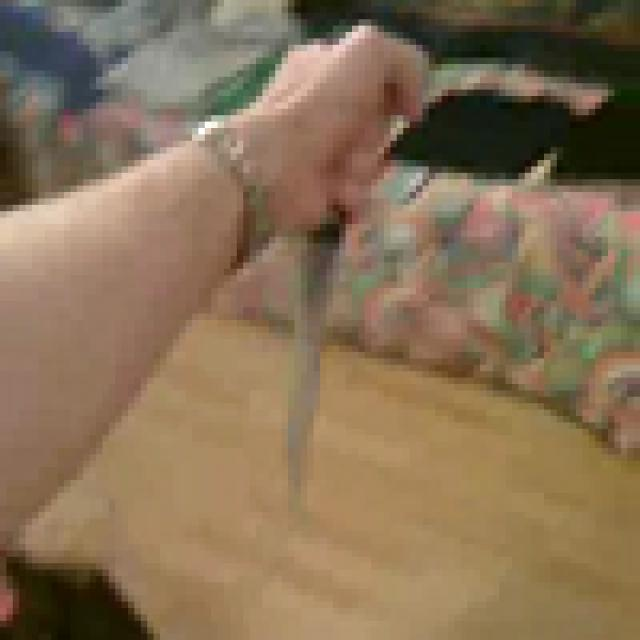Knife: (230, 6, 442, 512)
